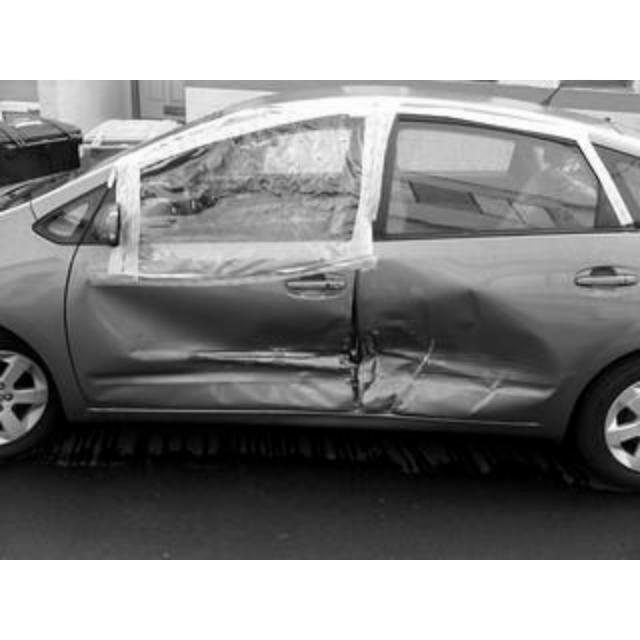doorouter-dent: (76, 236, 364, 408), (380, 200, 552, 418)
